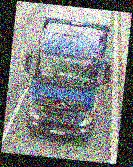truck: (18, 2, 118, 141)
